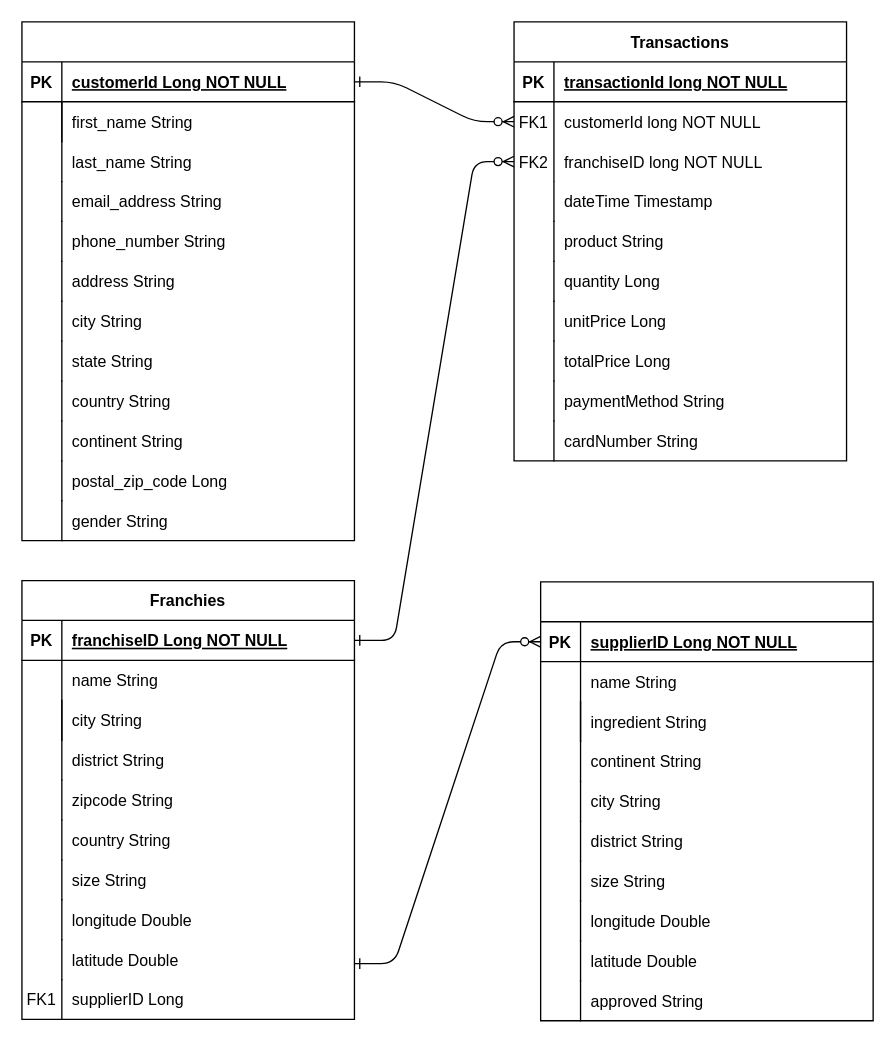
Some shapes in this 895 by 1043 pixel diagram are drawn without their labels. The box of each missing label's shape, as (x1, y1, x2, y2) in pixels:
Customers: (21, 21, 354, 541)
Suppliers: (539, 581, 873, 1021)
